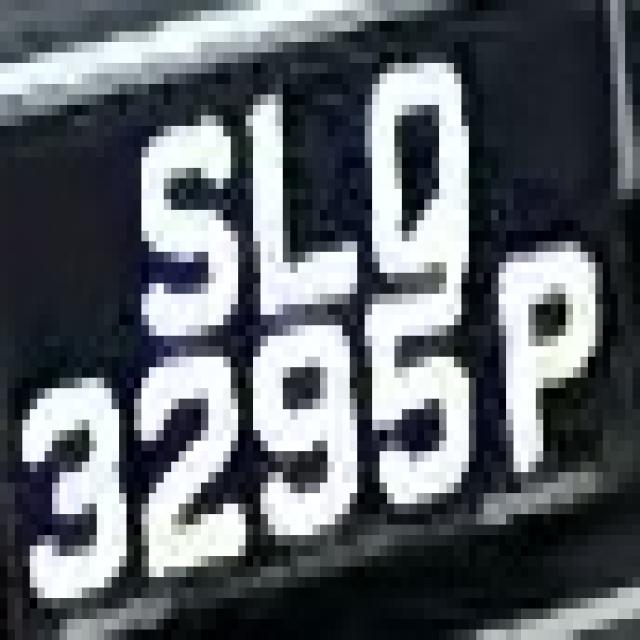2: (112, 304, 246, 588)
3: (7, 325, 134, 609)
5: (364, 241, 484, 514)
9: (253, 294, 372, 556)
L: (230, 63, 364, 315)
P: (491, 231, 603, 493)
Q: (349, 32, 484, 284)
S: (134, 84, 246, 357)
